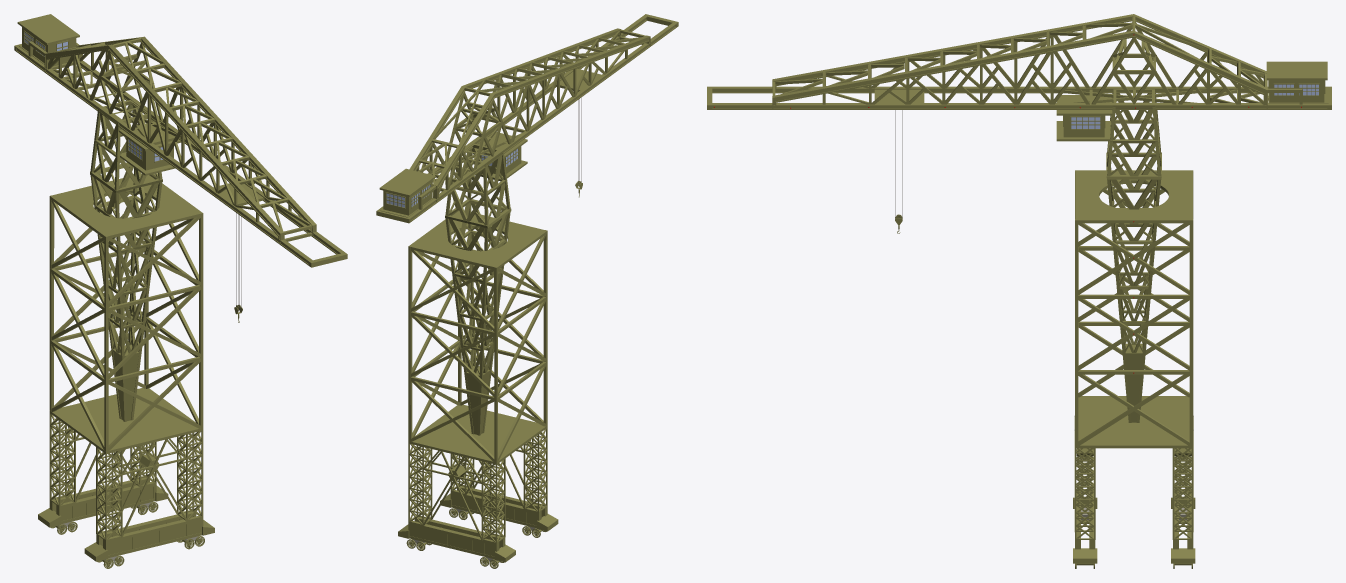
The model's file is crane.glb.
3 renders of one model, left to right at view 1: azimuth 30°, elevation 25°; view 2: azimuth 150°, elevation 25°; view 3: azimuth 270°, elevation 25°, orthographic. The views are drawn at different scales.
Visible parts, largest first — view 1: main, arm, pad; view 2: main, arm; view 3: arm, main.
Boxes of the visible parts, box(x1,y1,x2,y2) form: main: box(38, 173, 214, 568); arm: box(14, 14, 347, 421); pad: box(234, 213, 242, 322); main: box(398, 211, 558, 568); arm: box(376, 14, 678, 435); arm: box(707, 14, 1331, 422); main: box(1073, 170, 1195, 568).
Bounding box in the file's own units: 2.5 × 9.98 × 10.84.
